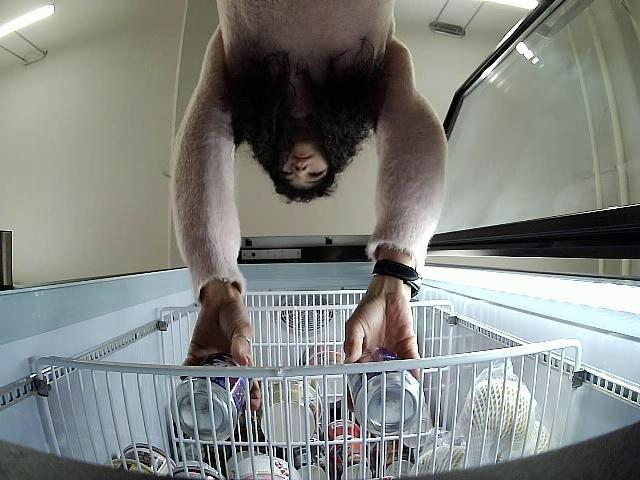14_welchsGrape: (170, 352, 247, 441), (350, 349, 424, 434)
